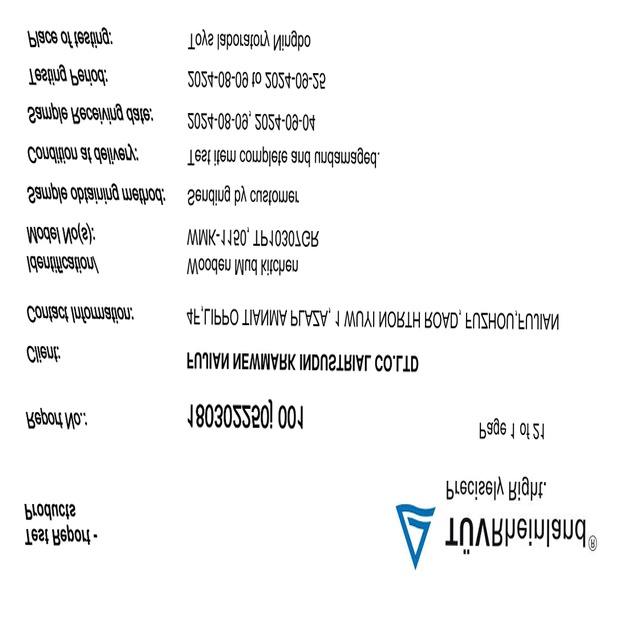tuv_rheinland: (388, 498, 605, 572)
